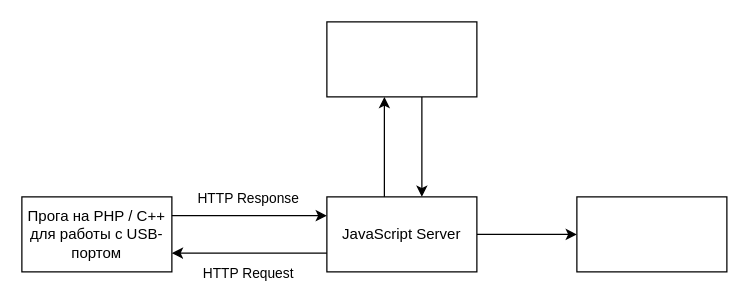
Image size: 749x303. Some labels were removed from this diagram. The shapes that lost their labels are listed below. From the top down, each one's box as (x1, y1, x2, y2) in pixels, then its label:
(326, 21, 477, 97): База данных
(576, 196, 727, 272): Данные на клиентской части
